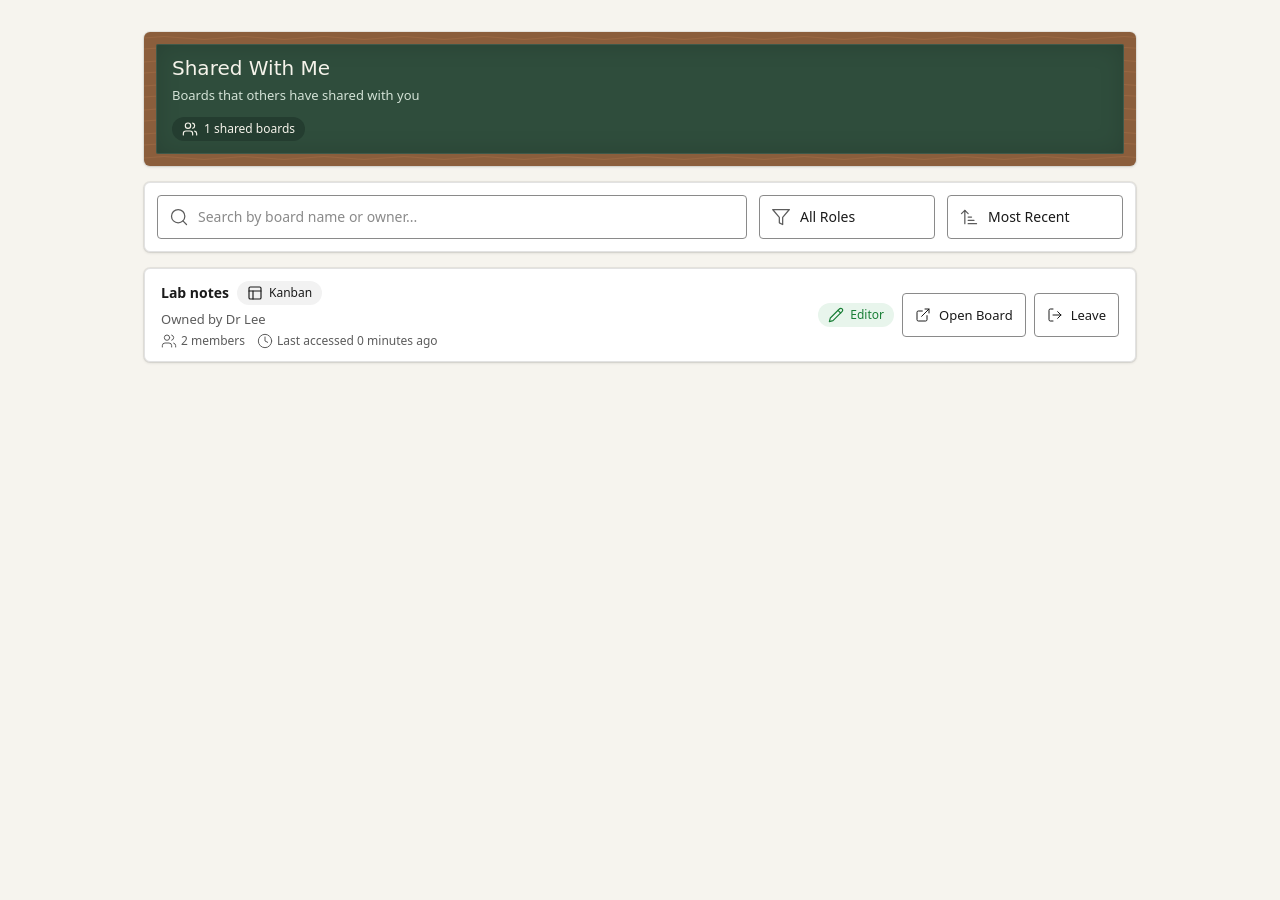
Test case: SharedPage › leaving a board confirms in a dialog and removes the row
The image size is (1280, 900).
Expected: the heading "Lab notes" is shown, x1=161 y1=283 x2=229 y2=303
Click the button named "Leave Lab notes".
click(1076, 315)  # box x1=1034 y1=293 x2=1119 y2=337
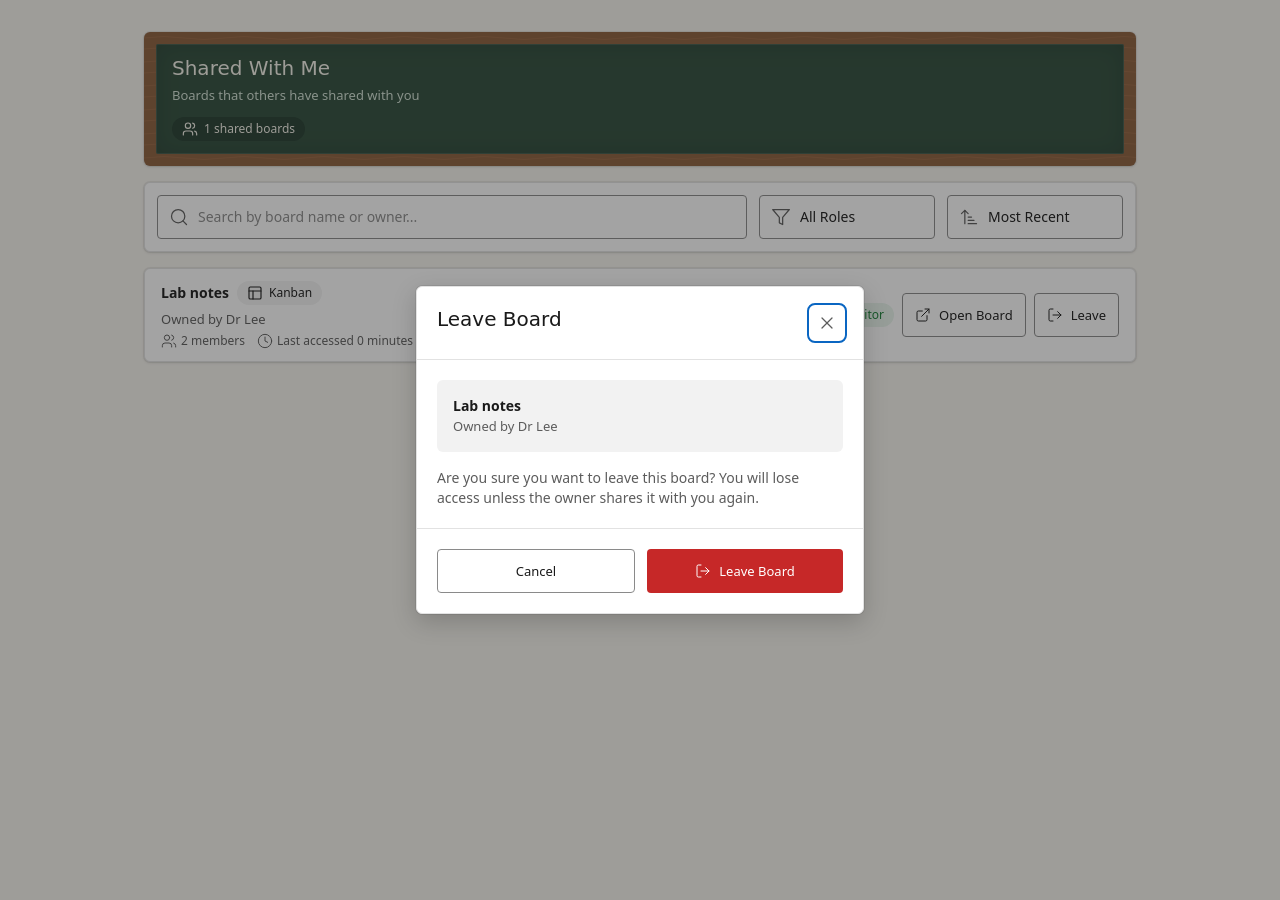
Click the button "Leave Board".
click(745, 571)  # box x1=647 y1=549 x2=843 y2=593
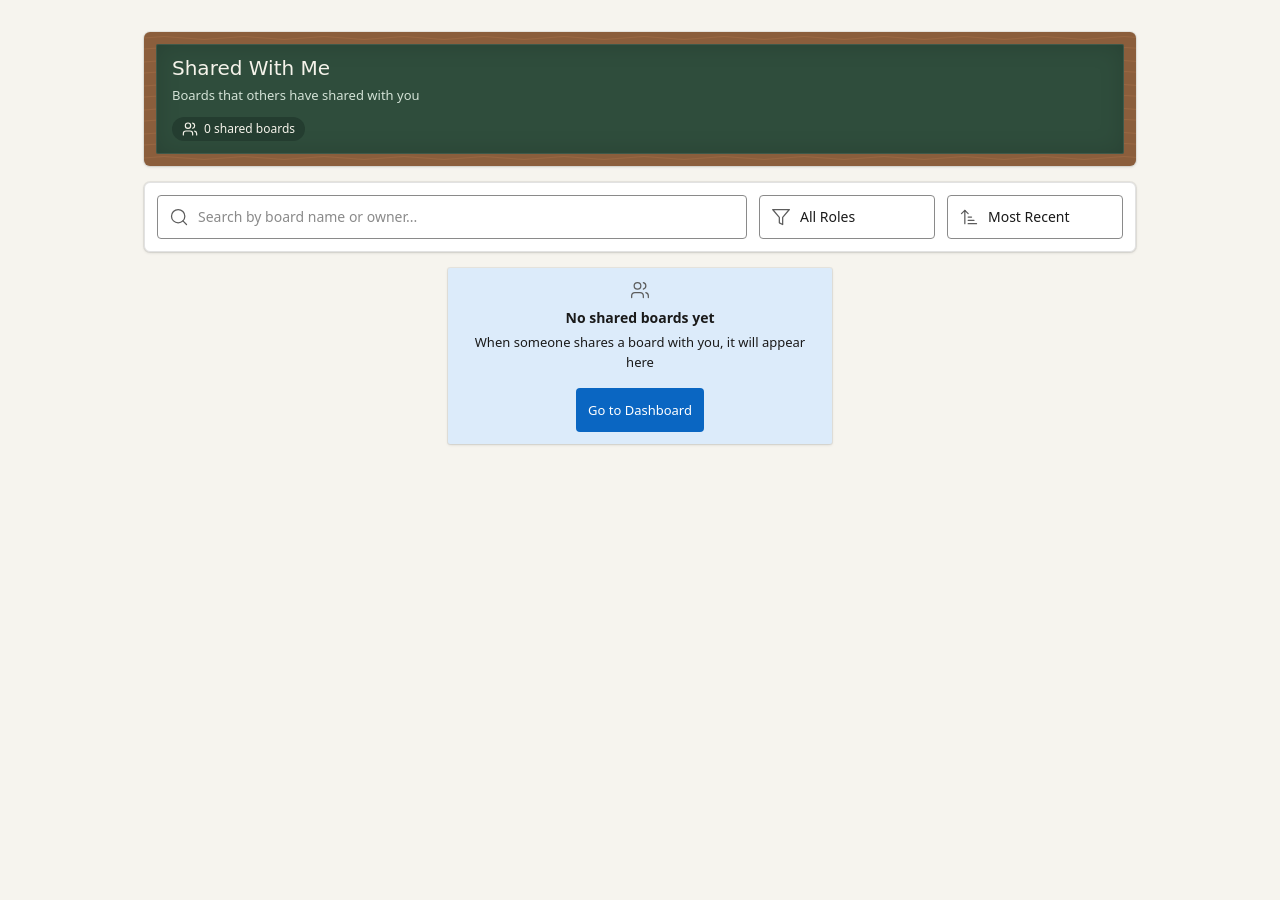
Expected: the heading "No shared boards yet" is shown, x1=566 y1=308 x2=714 y2=328
